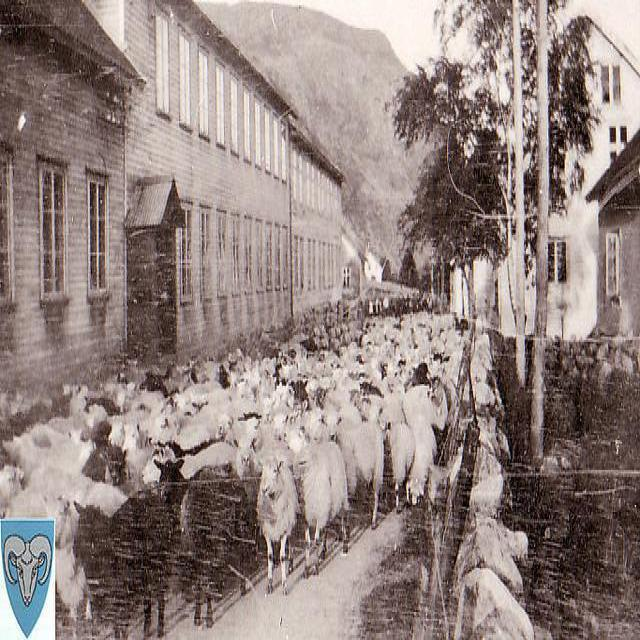Sheep: (0, 303, 474, 554), (65, 486, 176, 638), (178, 474, 247, 624), (284, 426, 350, 558), (250, 454, 301, 598), (322, 410, 385, 524), (378, 417, 413, 514)
